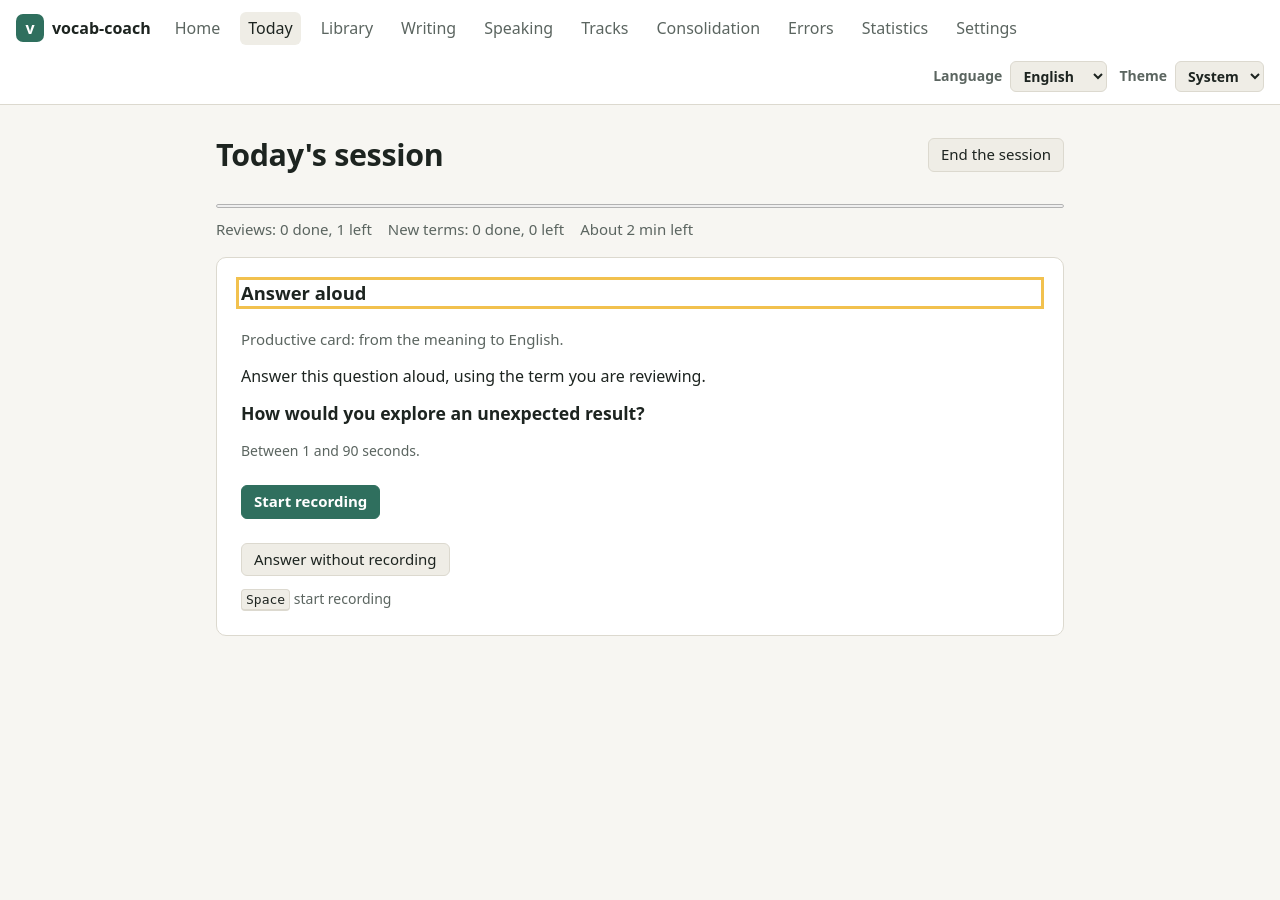
Review player: a spoken answer › records, sends the exact request, then rates with the checked answer and no auto_rating
Expected: the heading "Answer aloud" is shown, [241,280,366,305]
Step 1. Click the button "Start recording" → (311, 502), box [241,485,380,519]
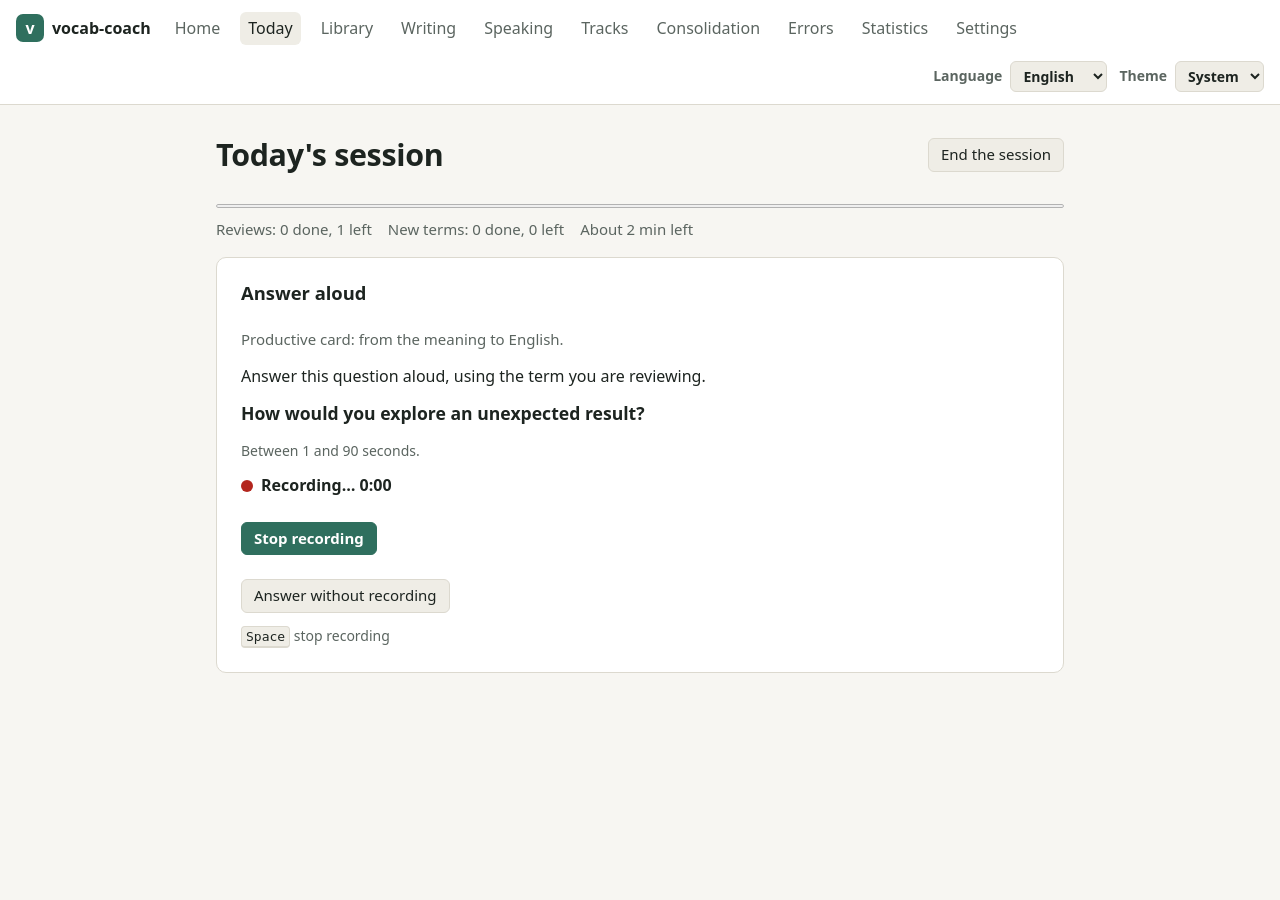
Step 2. Click the button "Stop recording" → (309, 539), box [241,522,377,556]
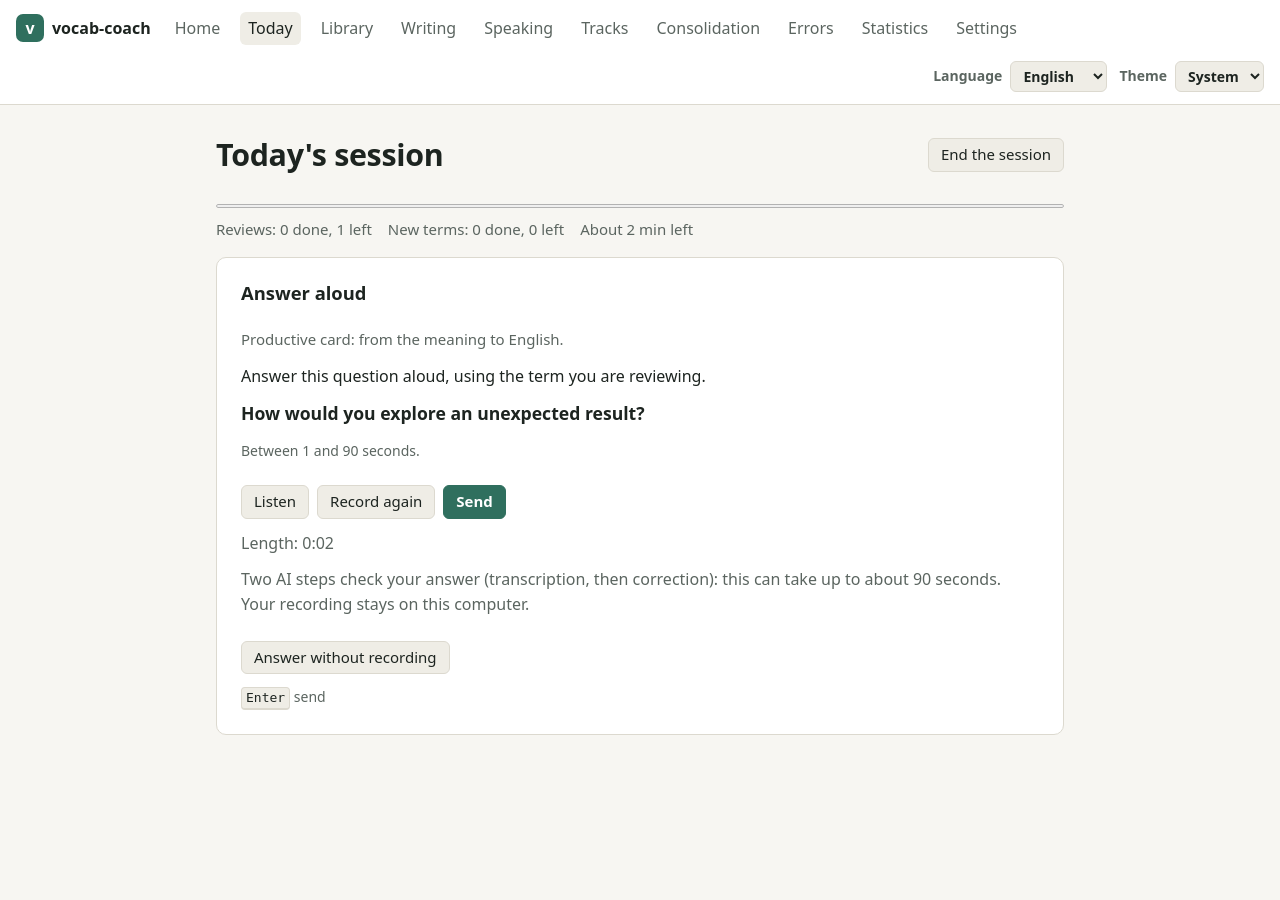
Expected: the button "Send" is shown
Step 3. Click the button "Send" → (475, 502), box [443,485,506,519]
(page scrolled)
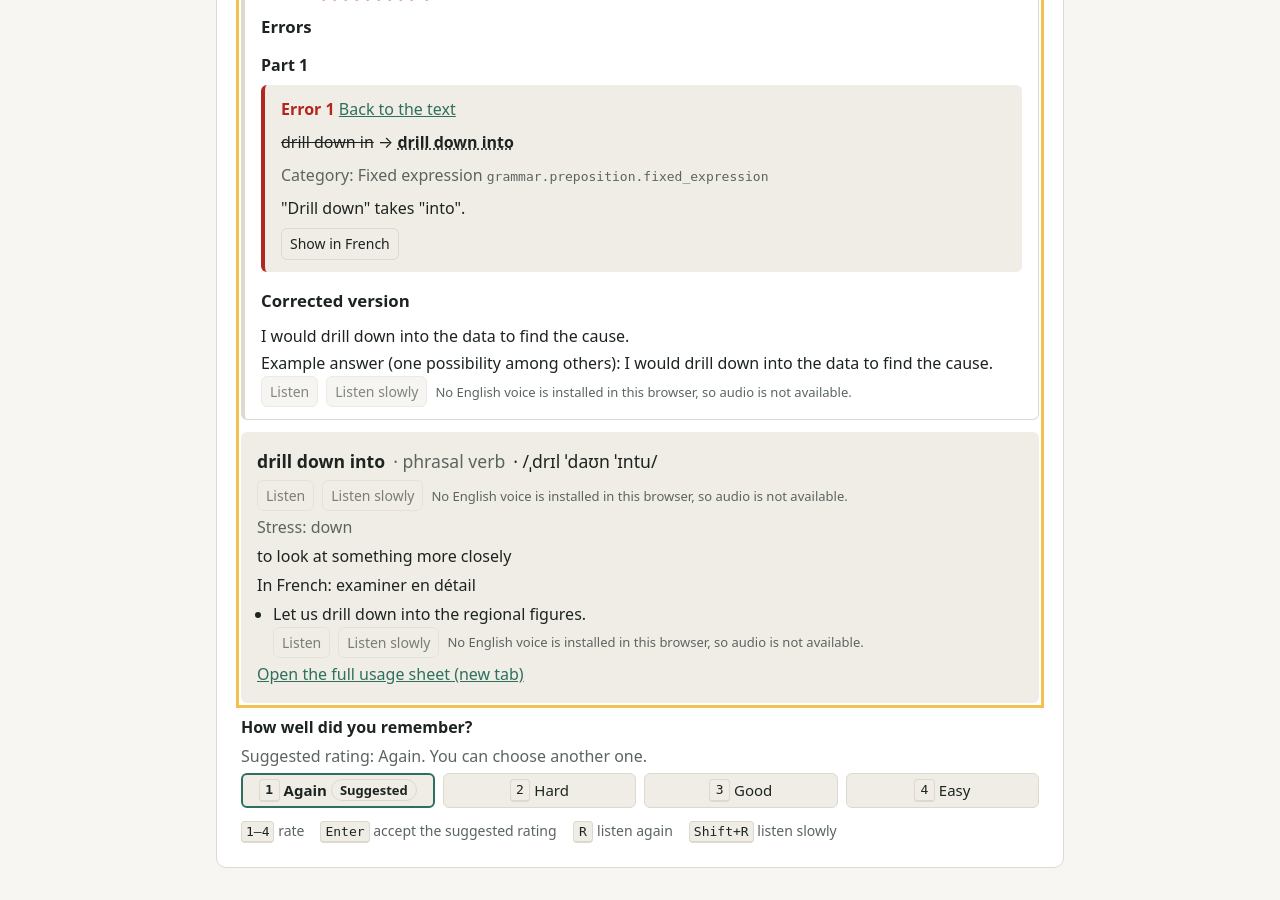
Step 4. Click the button "3 Good" → (741, 790), box [644,773,838,808]
(page scrolled)
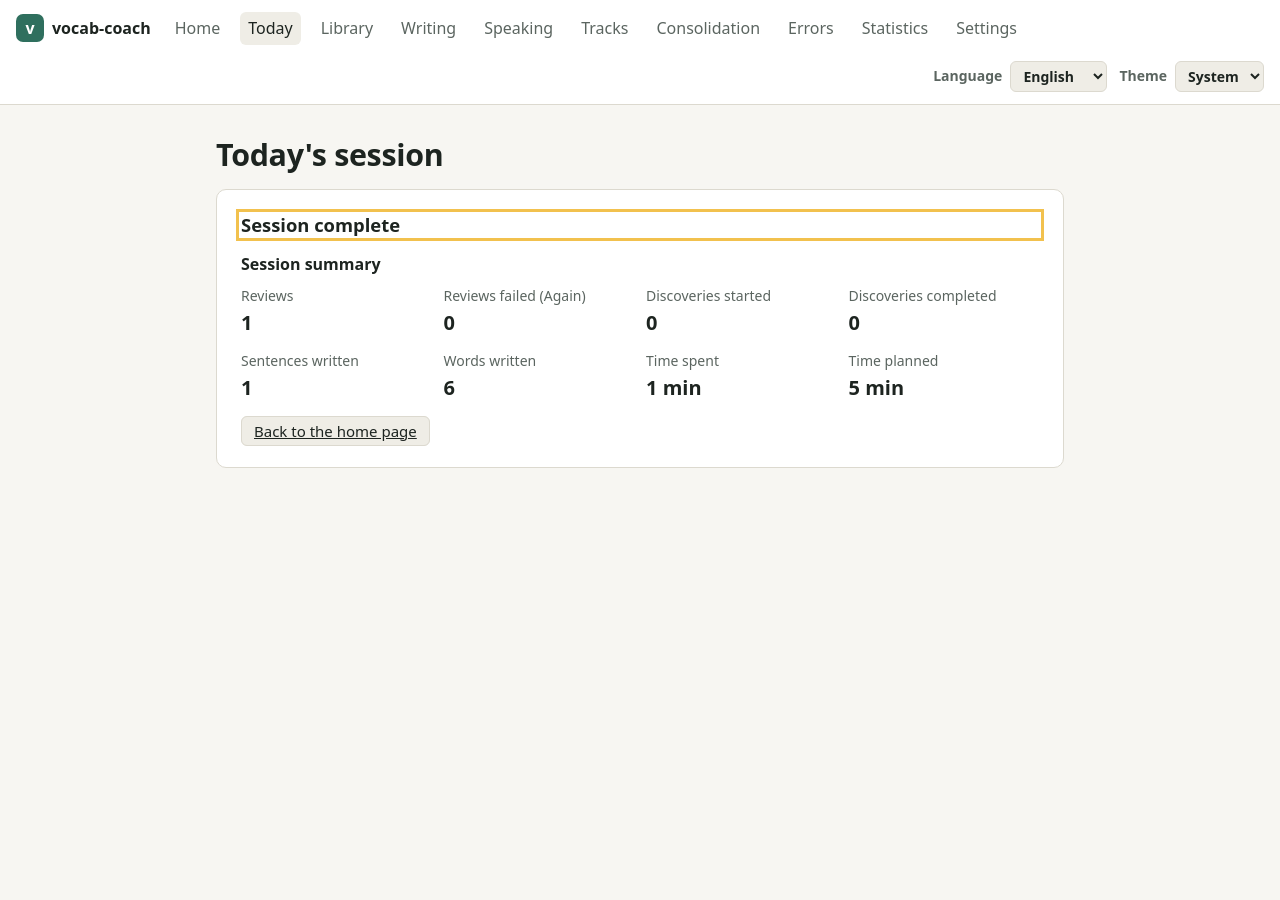
Expected: the heading "Session summary" is shown, [241,253,381,275]
